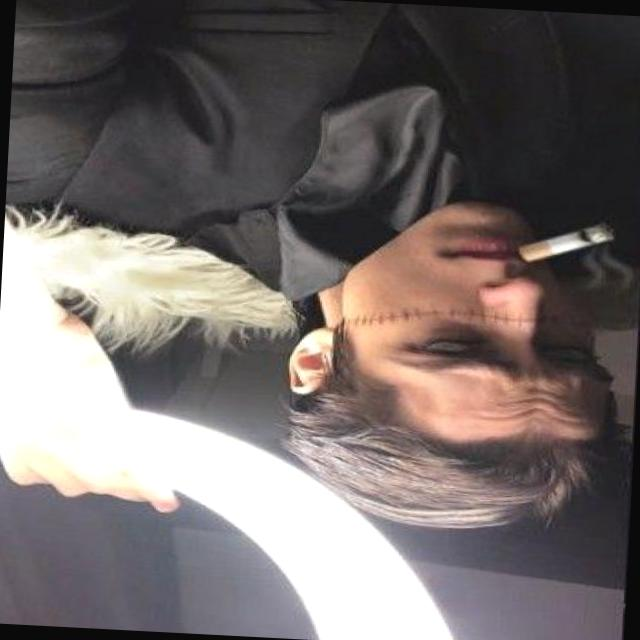smoke: (475, 208, 630, 278)
